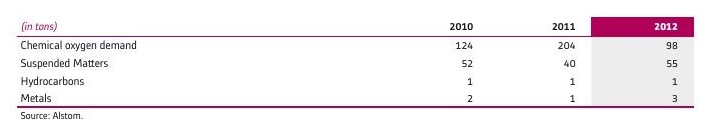table: (0, 0, 713, 120)
